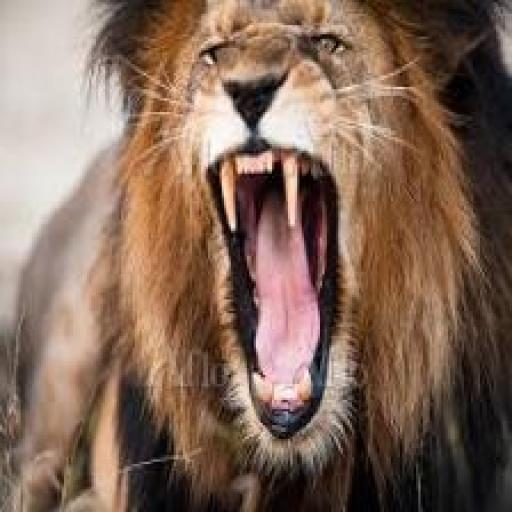lion: (64, 0, 511, 489)
